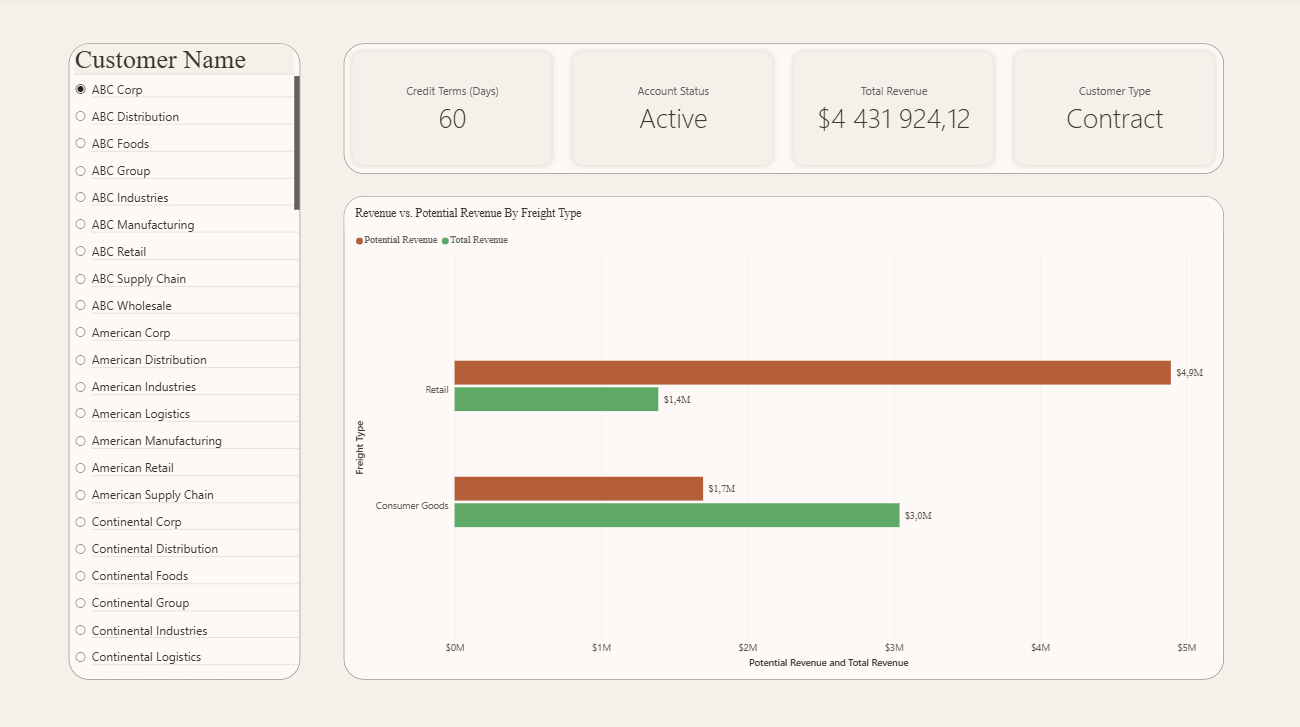

The dashboard page shown, as its layout file describes it:
{"tool":"powerbi","page":{"name":"Customers","canvas":[1920,1080],"ordinal":1},"visuals":[{"type":"clusteredBarChart","title":"Revenue vs. Potential Revenue By Freight Type","fields":{"Category":["dim_customers.primary_freight_type"],"Y":["Sum(dim_customers.annual_revenue_potential)","fact_loads.total_revenue"]},"box":[506,294,1296,712],"z":0},{"type":"cardVisual","fields":{"Data":["Median(dim_customers.credit_terms_days)","Min(dim_customers.account_status)","fact_loads.total_revenue","Min(dim_customers.customer_type)"]},"box":[506,70,1296,192],"z":1000},{"type":"slicer","fields":{"Values":["dim_customers.customer_name"]},"box":[101.2,69.9,340.5,936.8],"z":2000}]}

Visuals, with their boxes in screenshot pixels (x1, y1, x2, y2), scaled from the page's 1920x1080 canvas onto the 1300x727 screenshot:
"Revenue vs. Potential Revenue By Freight Type" clusteredBarChart: <box>343,198,1220,677</box>
cardVisual - Median(dim_customers.credit_terms_days) x Min(dim_customers.account_status): <box>343,47,1220,176</box>
slicer - dim_customers.customer_name: <box>69,47,299,678</box>
